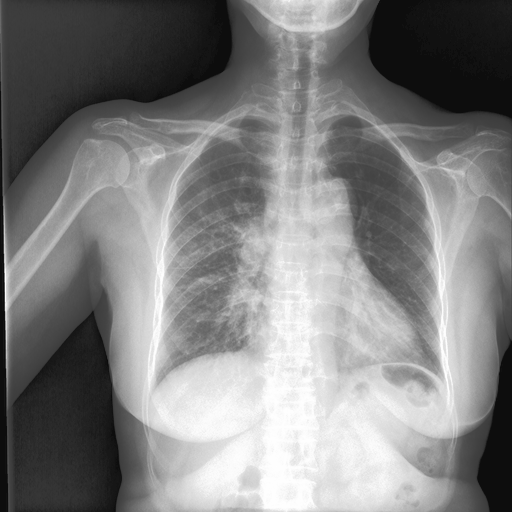Nodule/Mass: (232, 290, 436, 373)
Pleural thickening: (172, 202, 250, 321)
Pneumothorax: (351, 157, 392, 183)
